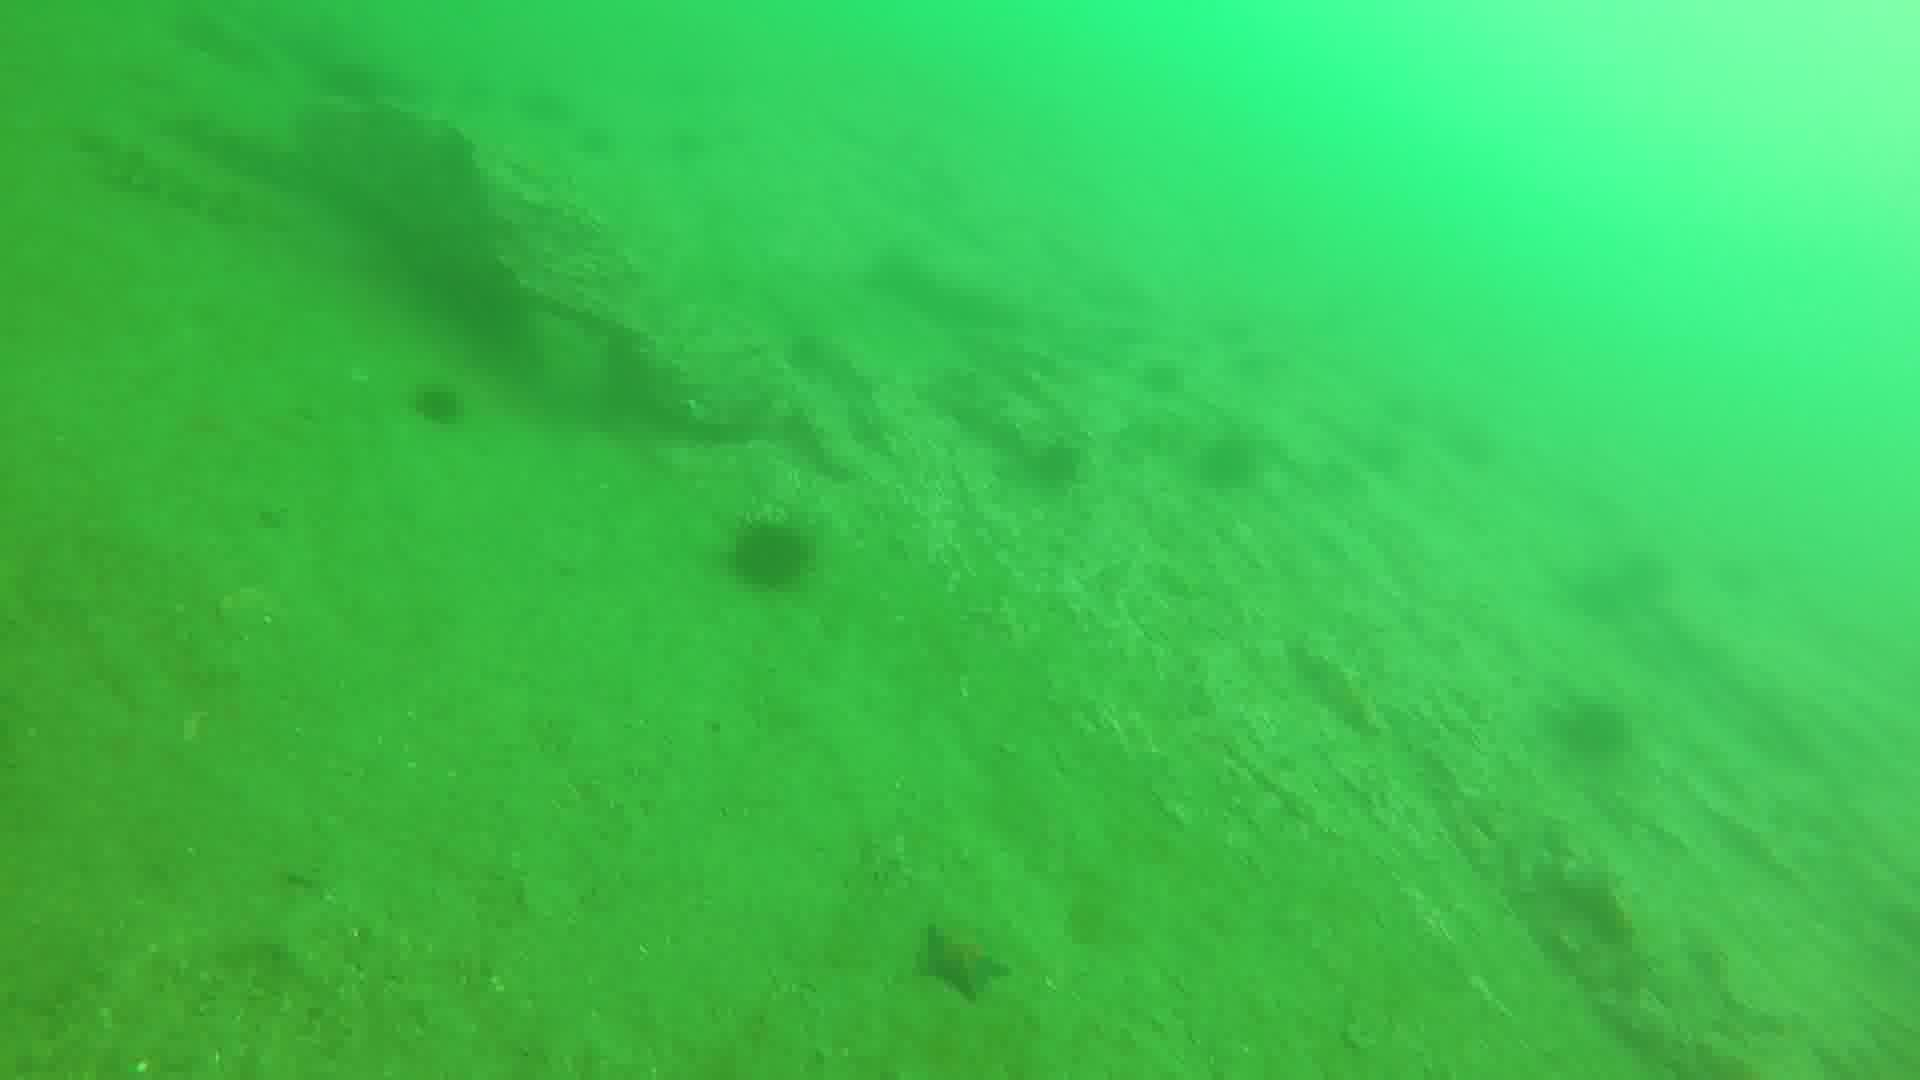echinus: (731, 521, 810, 591), (1560, 694, 1635, 761), (1196, 434, 1266, 498), (406, 380, 465, 425)
starfish: (916, 920, 1011, 1002)
